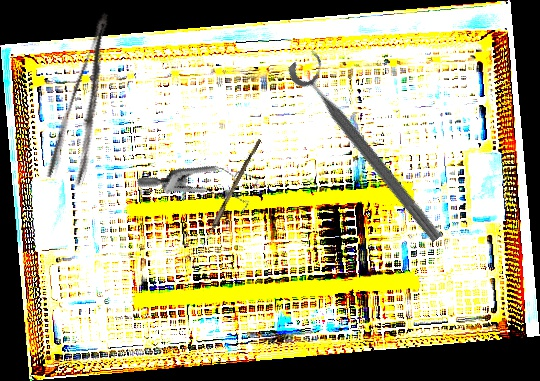Dressing Forceps: (43, 9, 138, 189)
Fixation Ring: (284, 46, 457, 248)
Speculum: (135, 130, 269, 249)
Surgical Spoon: (195, 137, 262, 259)
